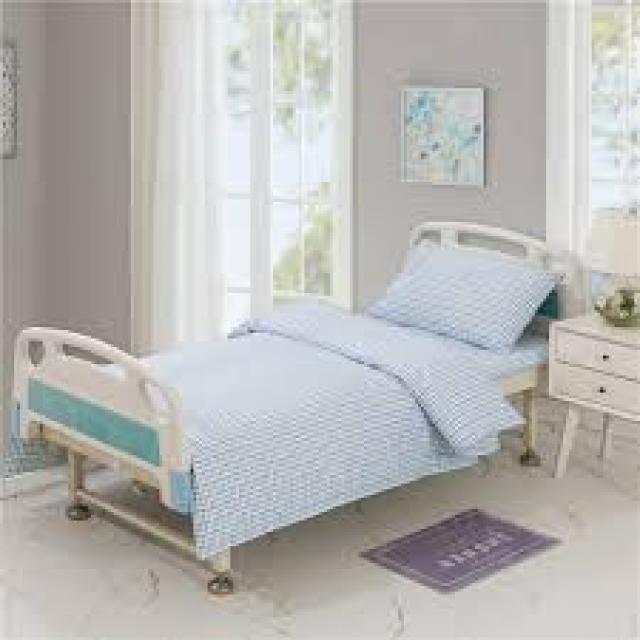bed: (11, 220, 578, 594)
